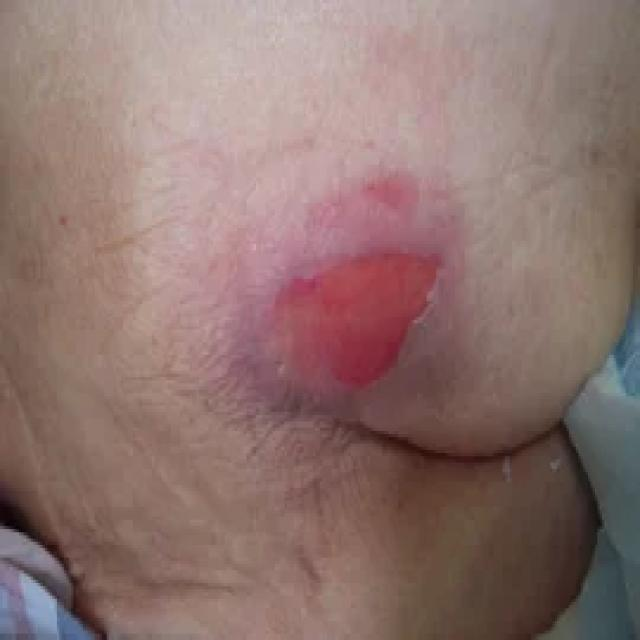stage-2: (275, 254, 441, 382)
